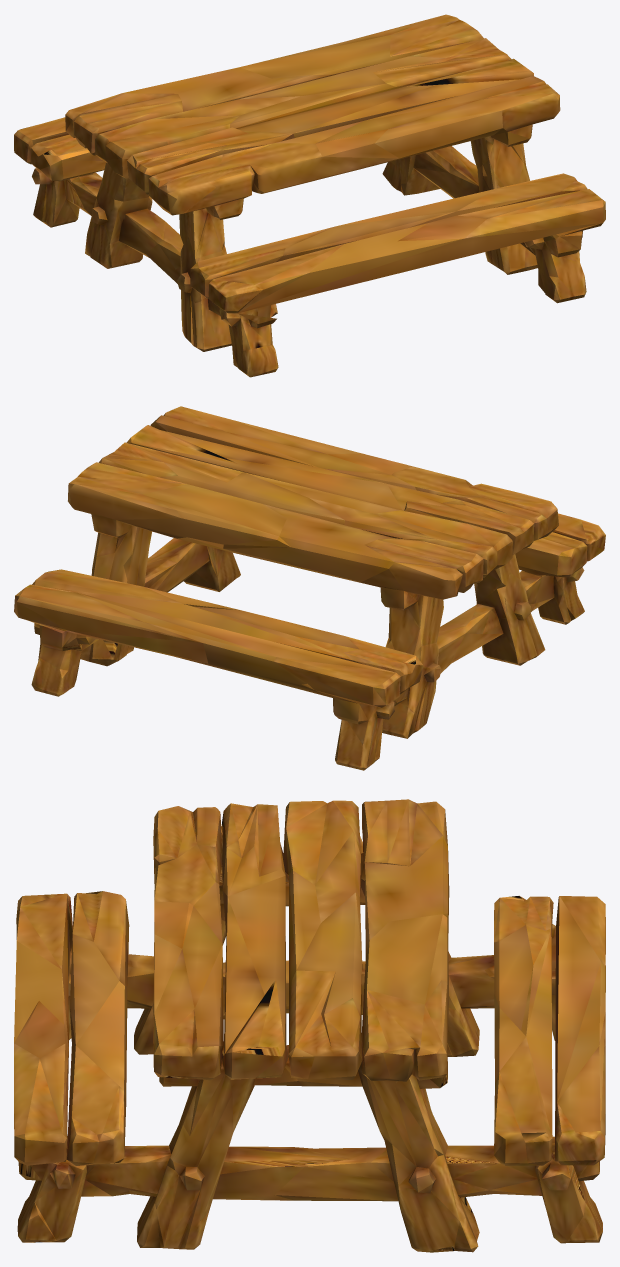
The model's file is tavern-table.low.glb.
The picture shows the model from 3 angles, top to bottom: view 1: azimuth 30°, elevation 25°; view 2: azimuth 150°, elevation 25°; view 3: azimuth 270°, elevation 25°; orthographic projection. The views are drawn at different scales.
Visible parts, largest first — view 1: output_unwrapped; view 2: output_unwrapped; view 3: output_unwrapped.
Boxes of the visible parts, left/top/right/bottom form: output_unwrapped: left=14, top=14, right=605, bottom=377; output_unwrapped: left=14, top=406, right=605, bottom=770; output_unwrapped: left=14, top=799, right=605, bottom=1252.
Bounding box in the file's own units: 1.89 × 0.7674 × 1.87.
1 material, 1 textured.
